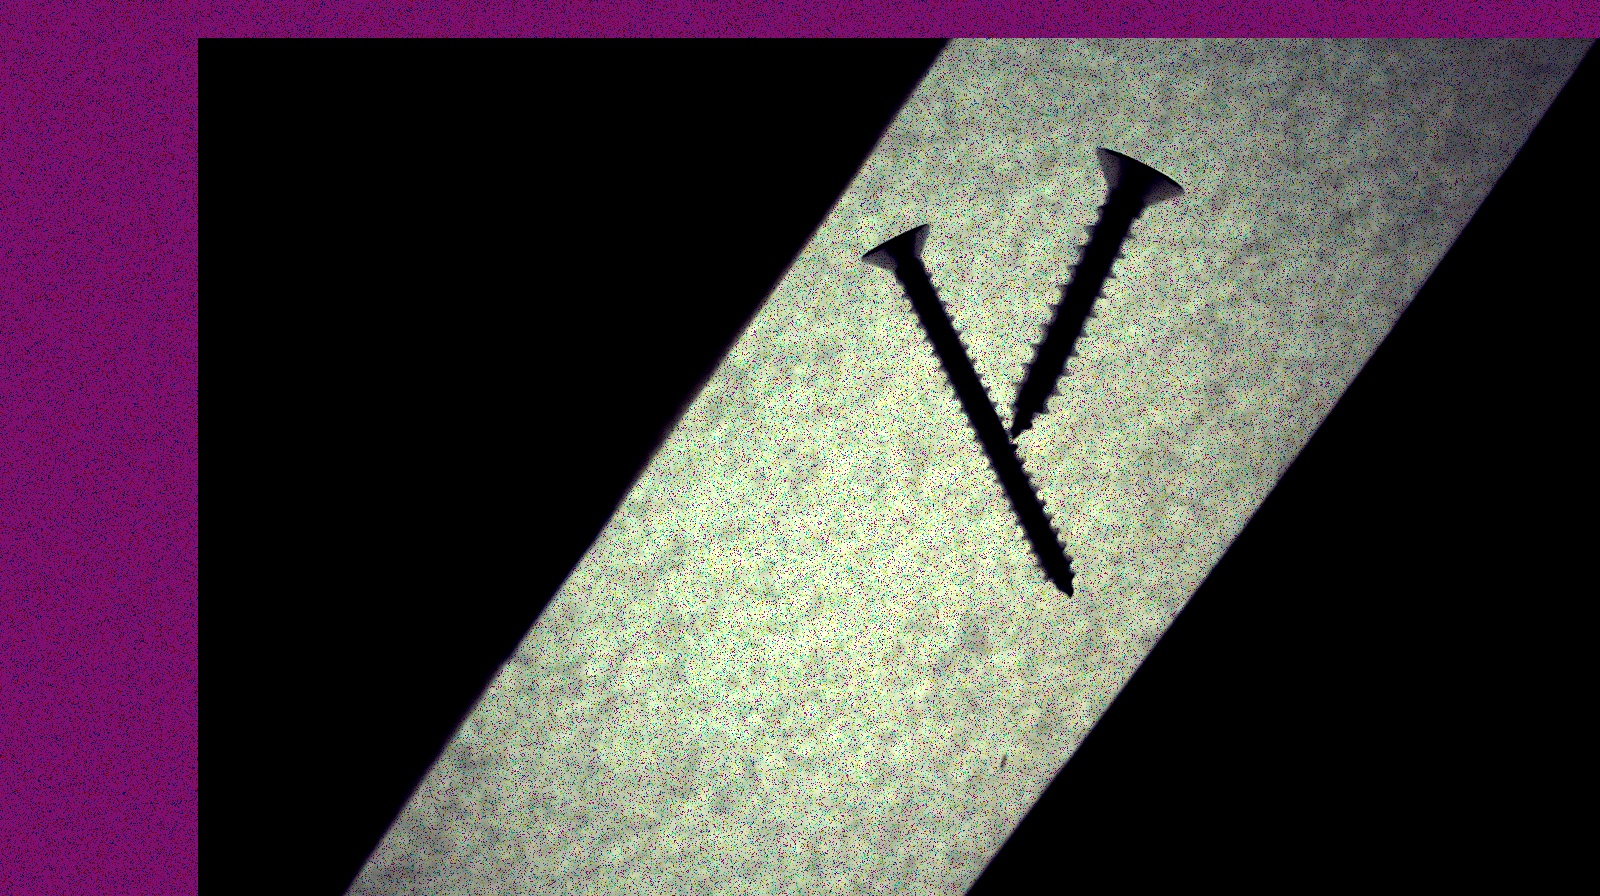S001: (1003, 142, 1184, 434)
S002: (854, 215, 1078, 597)
